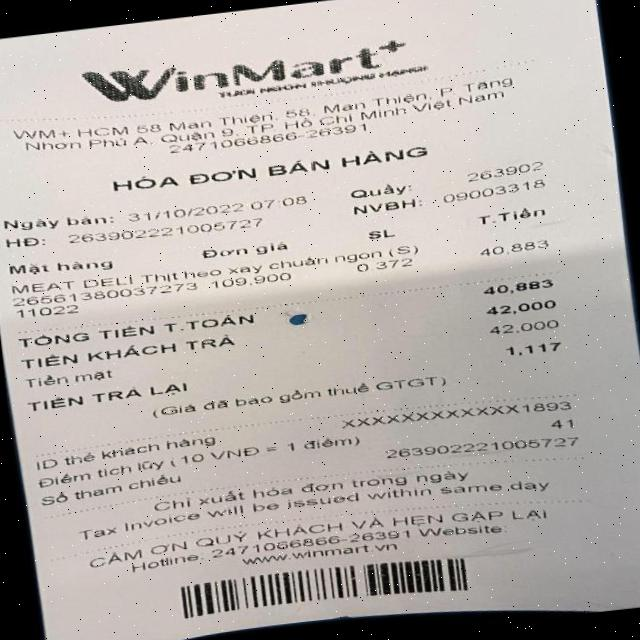Date: (122, 197, 254, 226)
Store_Name: (57, 15, 474, 116)
amount_number: (467, 274, 578, 298)
label_total: (12, 311, 259, 351)
